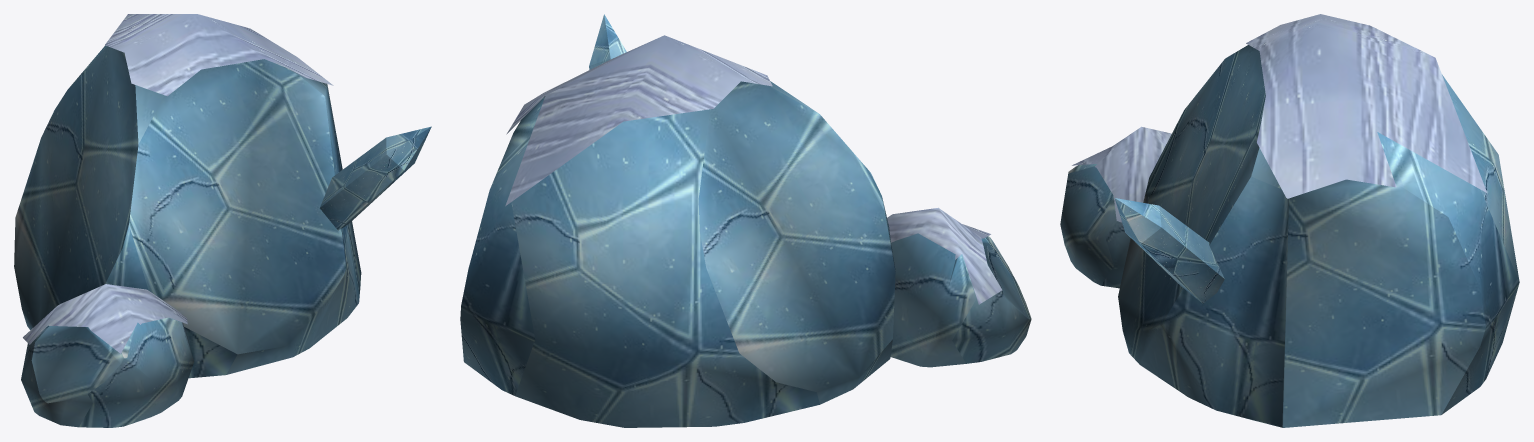
Rendered from rimeshore_ice_rock_c.glb.
3 views of the same model, side by side, from view 1: azimuth 30°, elevation 25°; view 2: azimuth 150°, elevation 25°; view 3: azimuth 270°, elevation 25° (orthographic). The views are drawn at different scales.
Parts seen in each view (by area): view 1: rimeshore_ice_rock_c; view 2: rimeshore_ice_rock_c; view 3: rimeshore_ice_rock_c.
Boxes of the visible parts, x1,y1,x2,y2 form: rimeshore_ice_rock_c: (14,14,431,427); rimeshore_ice_rock_c: (460,14,1031,427); rimeshore_ice_rock_c: (1060,14,1519,427).
Size of the model in its own units: 1.74 by 1.21 by 1.58.
Materials: 2 (2 with a texture image).
